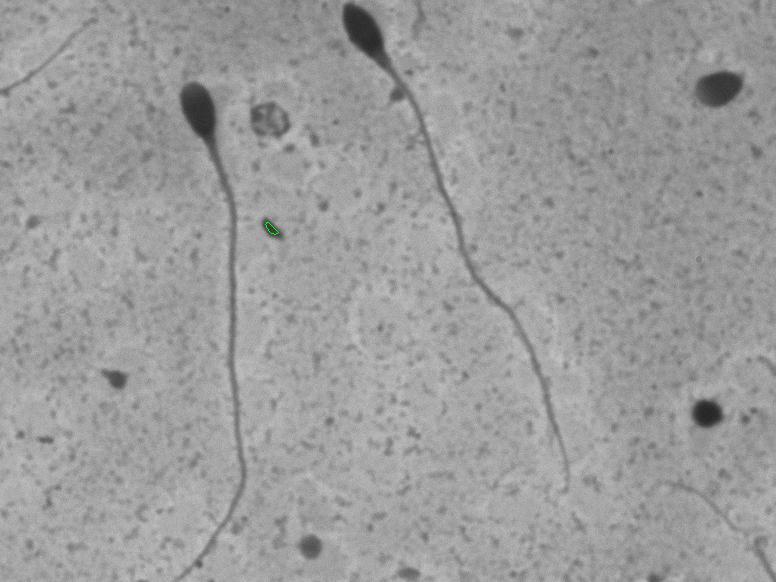Abnormal: (325, 0, 598, 504)
Normal: (144, 65, 246, 561)
